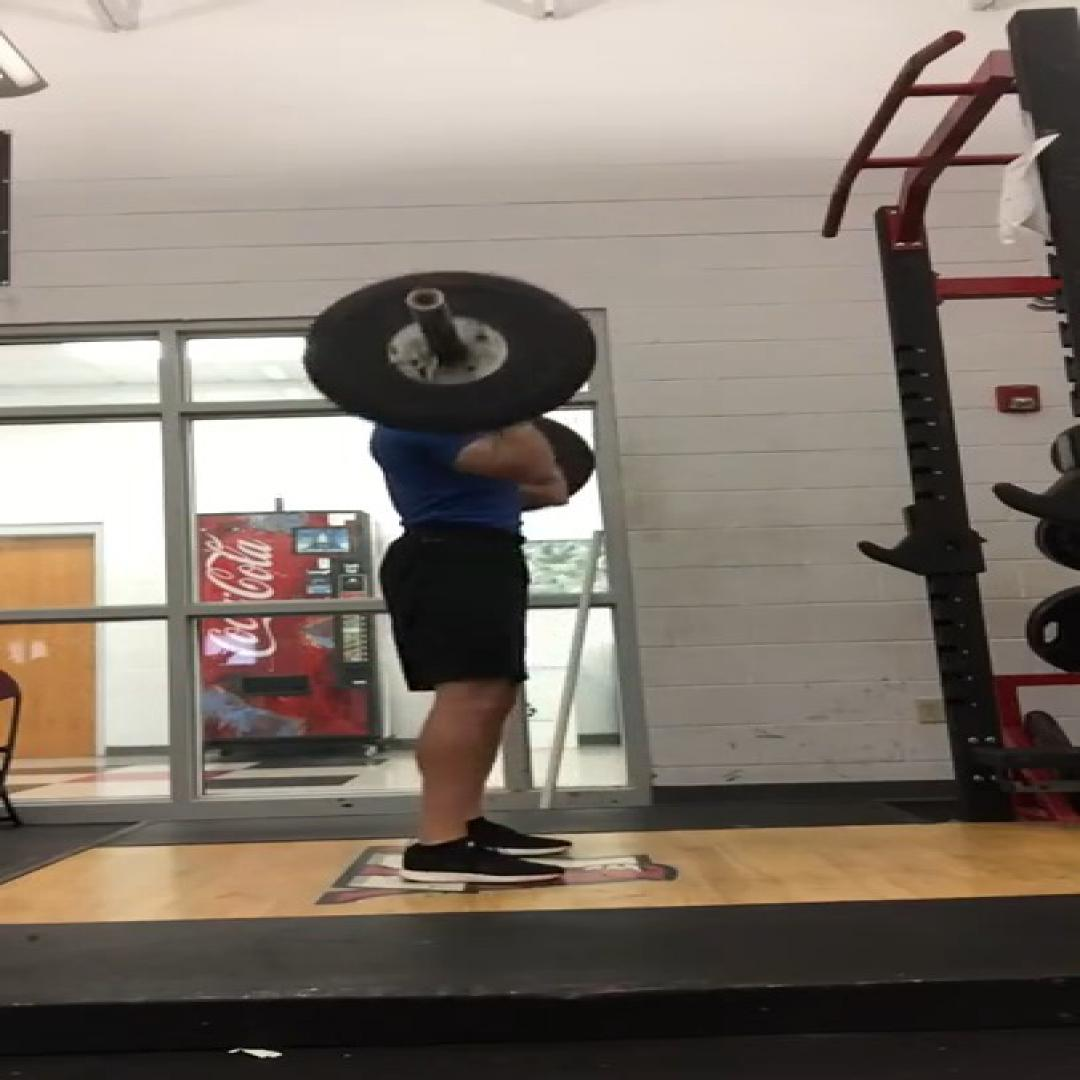Bar: (404, 287, 447, 312)
Barbell: (303, 272, 596, 434)
